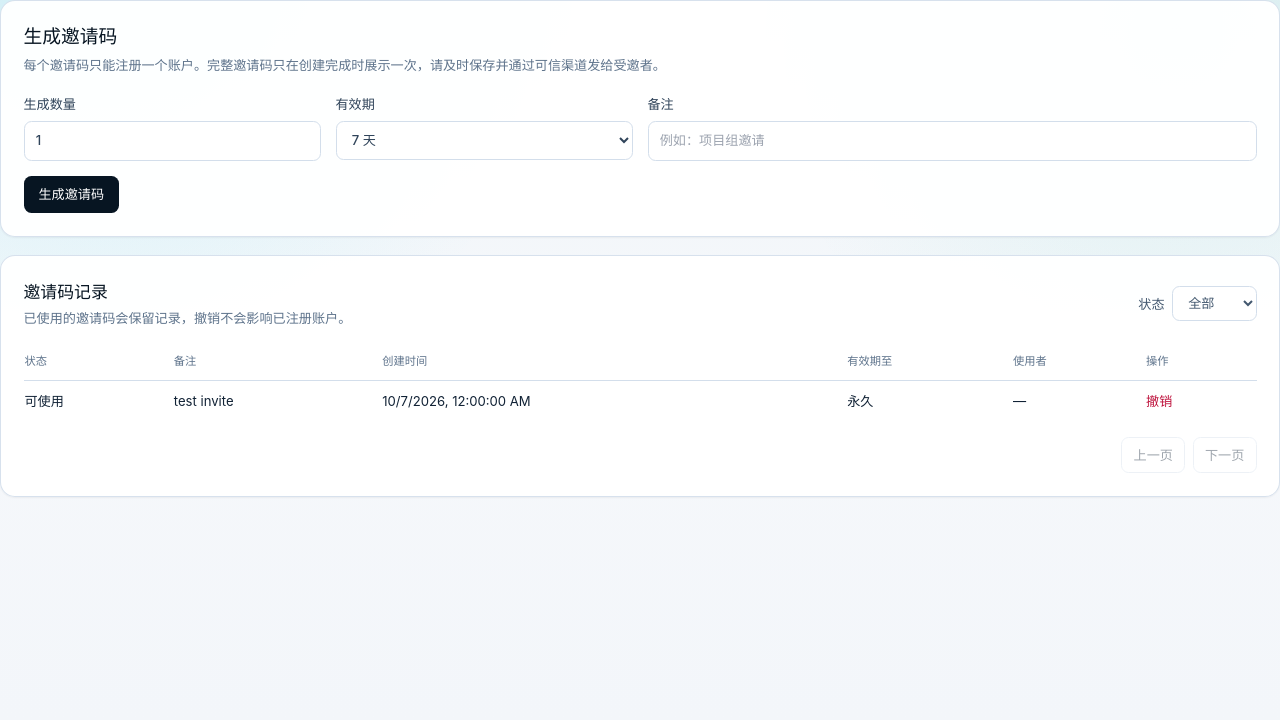
Test: invitation administration behavior › refreshes the list after a revoke conflict and keeps the error visible
Expected: the text "test invite" is shown, [173,380,381,422]
Click the button "撤销" at (1159, 402), box [1146,392,1172,411]
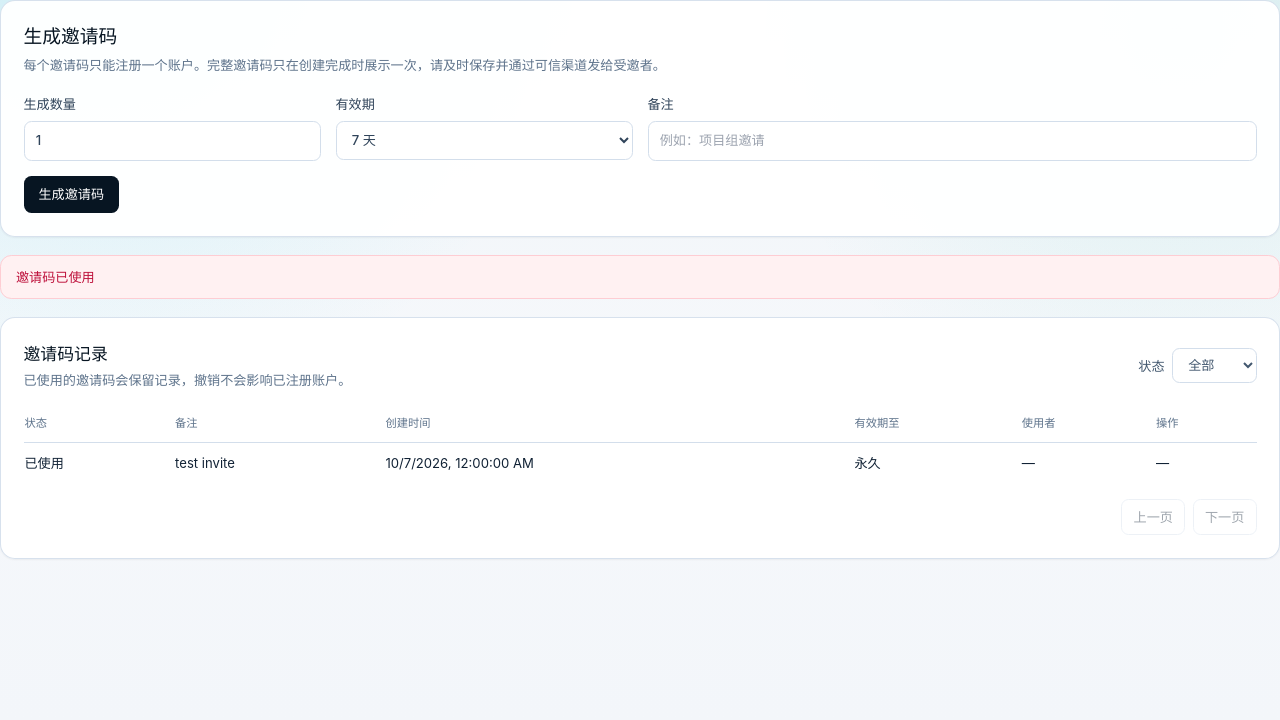
Expected: the message reads "邀请码已使用", [16,268,95,284]
